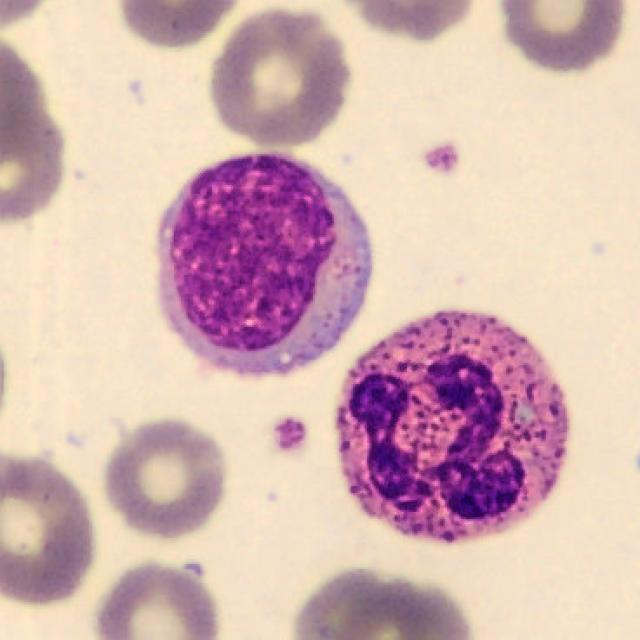Linfocito: (157, 156, 374, 377)
Neutrofilo segmentado: (337, 311, 570, 545)
